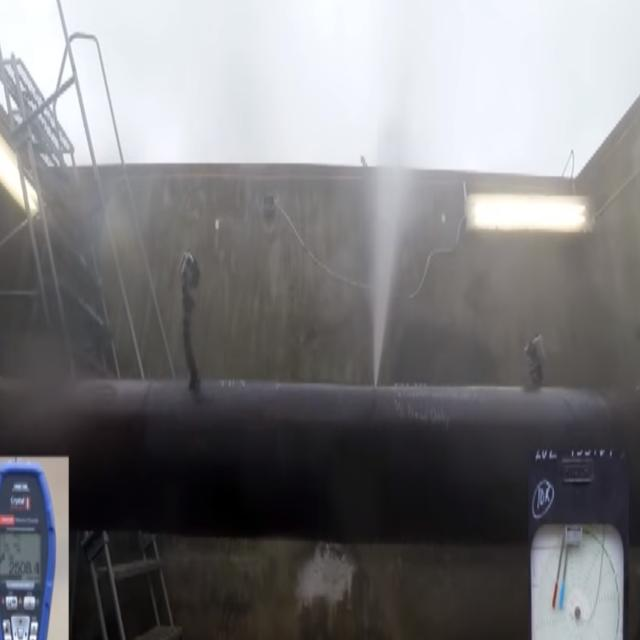leak: (368, 169, 417, 387)
